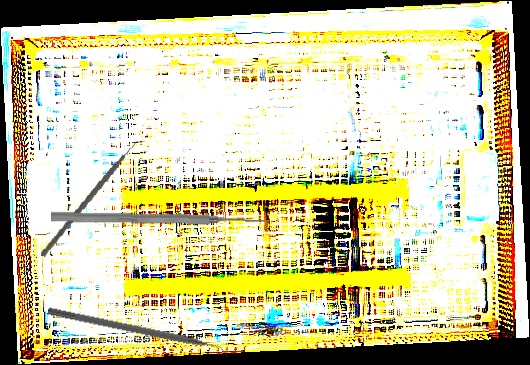Chopper: (40, 129, 150, 269), (45, 306, 231, 364)
Pusher: (50, 210, 269, 228)
